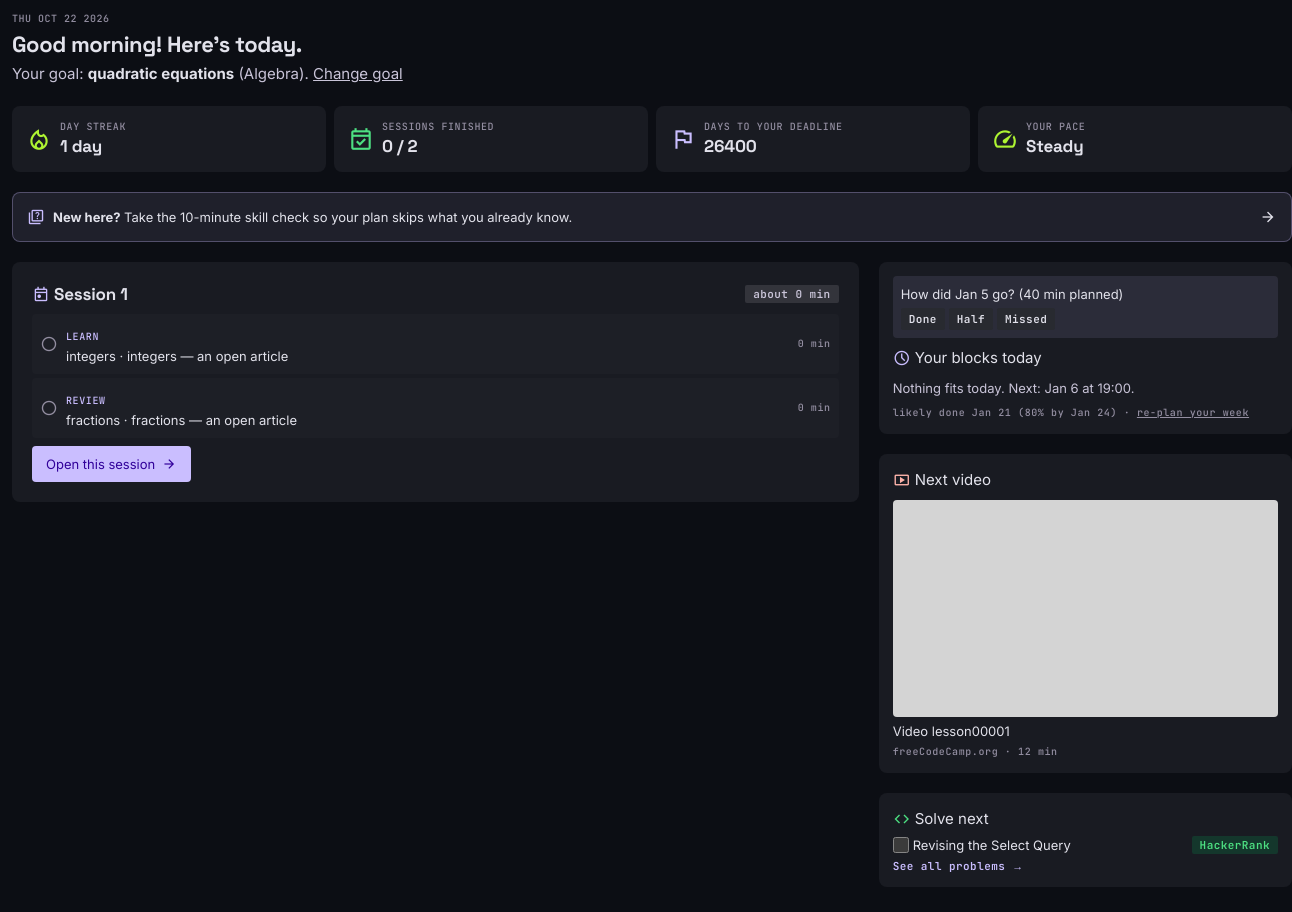
Test: today feeds the calendar loop › asks how the last session went and shows the next block
Expected: the text "Nothing fits today. Next: Jan 6 at 19:00." is shown, x1=893 y1=380 x2=1134 y2=396
Click the button "Missed".
click(1026, 319)  # box x1=997 y1=308 x2=1055 y2=330
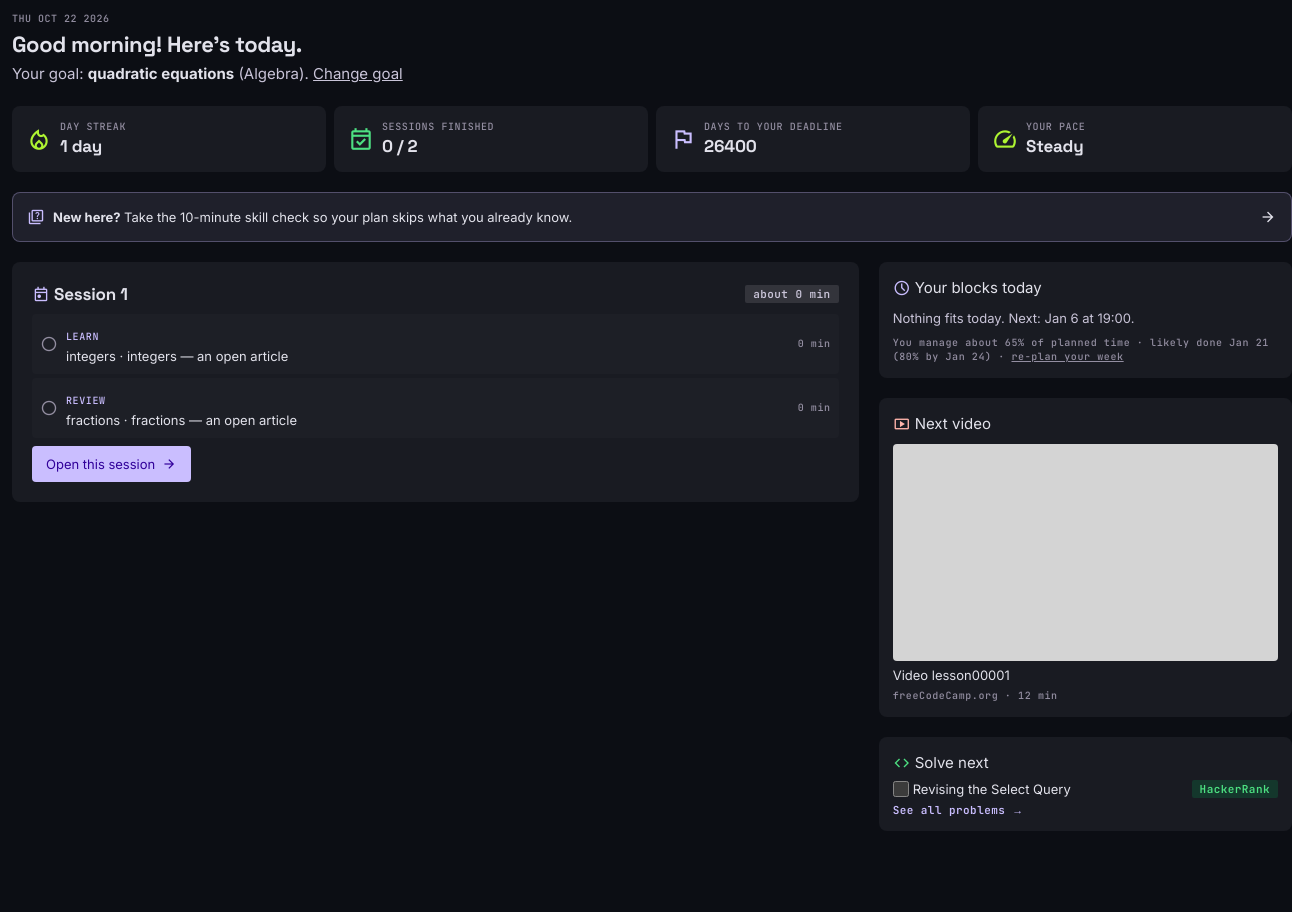
Now the text "You manage about 65% of planned time" is shown, box x1=893 y1=336 x2=1150 y2=349
Now the text "How did Jan 5 go? (40 min planned)" is gone
